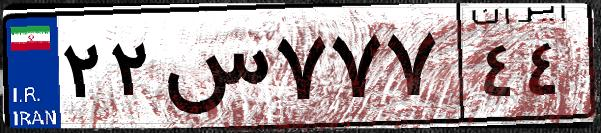2: (57, 26, 110, 100), (110, 28, 158, 98)
4: (475, 38, 525, 113), (525, 38, 570, 115)
7: (270, 28, 330, 110), (385, 28, 445, 110), (330, 28, 385, 110)
س: (158, 20, 270, 120)
